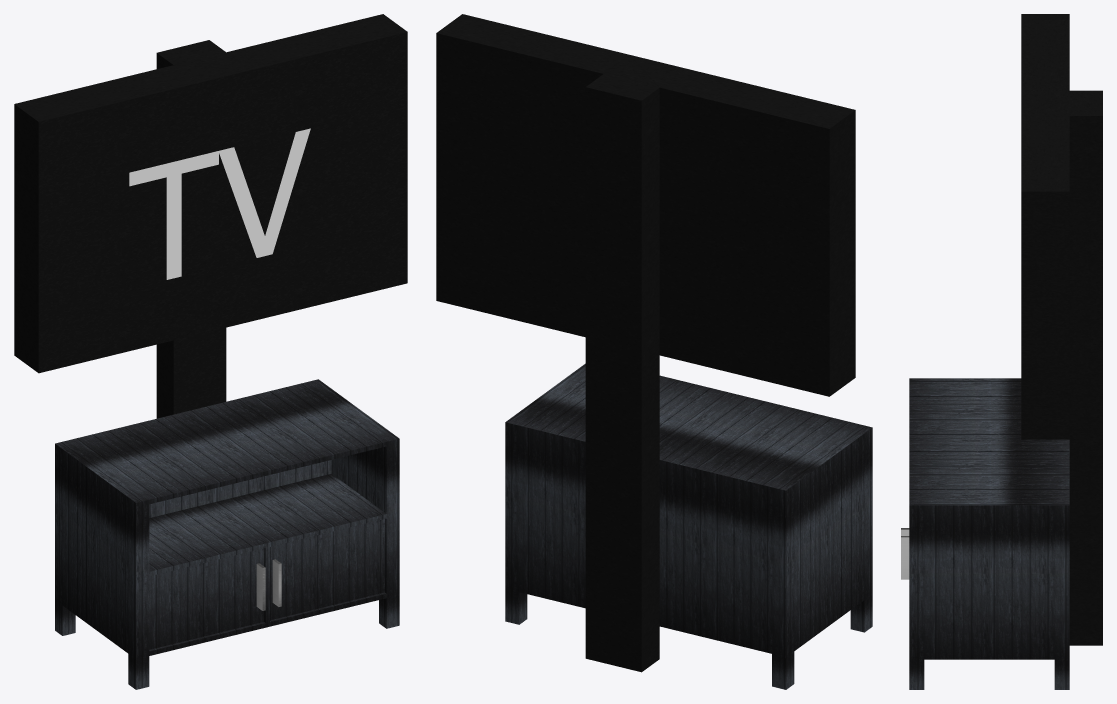
The picture shows the model from 3 angles, left to right: view 1: azimuth 30°, elevation 25°; view 2: azimuth 150°, elevation 25°; view 3: azimuth 270°, elevation 25°; orthographic projection. The views are drawn at different scales.
Visible parts, largest first — view 1: SketchUp (×5), TV (×2); view 2: SketchUp (×2); view 3: SketchUp (×3).
Part boxes in pixels (x1,y1,x2,y2): SketchUp (×5): [14, 14, 407, 689]; TV (×2): [129, 128, 310, 279]; SketchUp (×2): [436, 14, 872, 689]; SketchUp (×3): [901, 14, 1102, 689].
Bounding box in the file's own units: 49.61 × 23.82 × 68.9.
4 materials, 3 textured.
